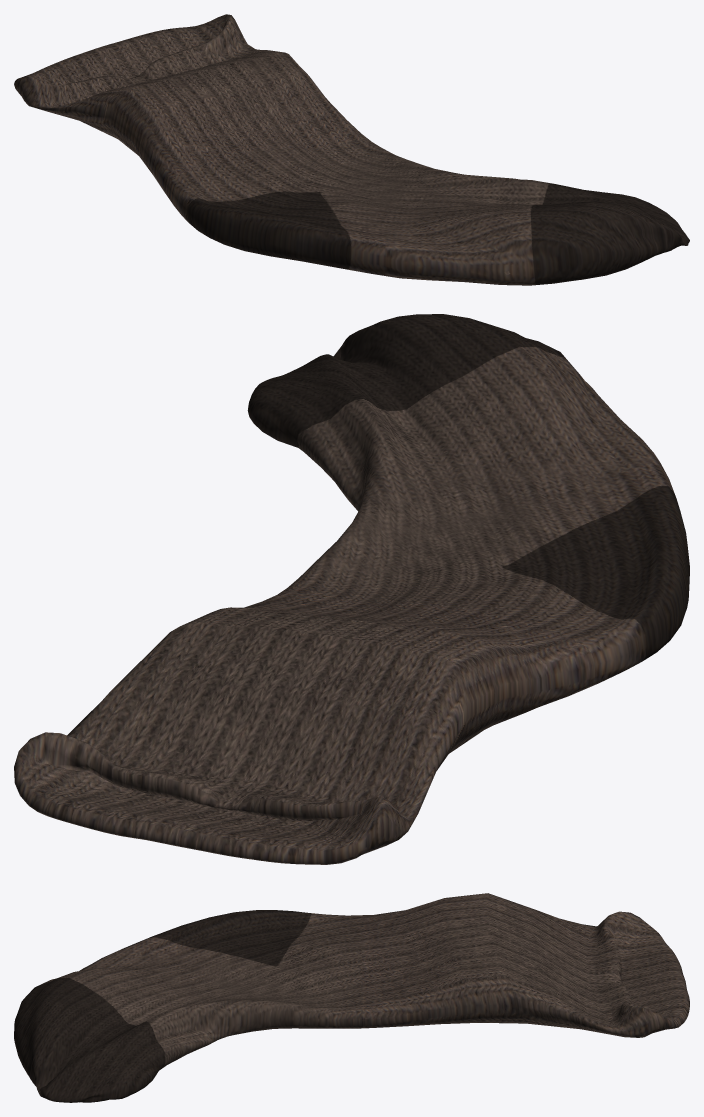
Rendered from LayingSock NEW.fbx.
3 renders of one model, top to bottom at view 1: azimuth 30°, elevation 25°; view 2: azimuth 150°, elevation 25°; view 3: azimuth 270°, elevation 25°, orthographic. The views are drawn at different scales.
Visible parts, largest first — view 1: Sock; view 2: Sock; view 3: Sock.
Part boxes in pixels (x1,y1,x2,y2): Sock: [14, 14, 689, 285]; Sock: [14, 314, 689, 864]; Sock: [14, 893, 689, 1102].
Size of the model in its own units: 269 by 52.59 by 455.
